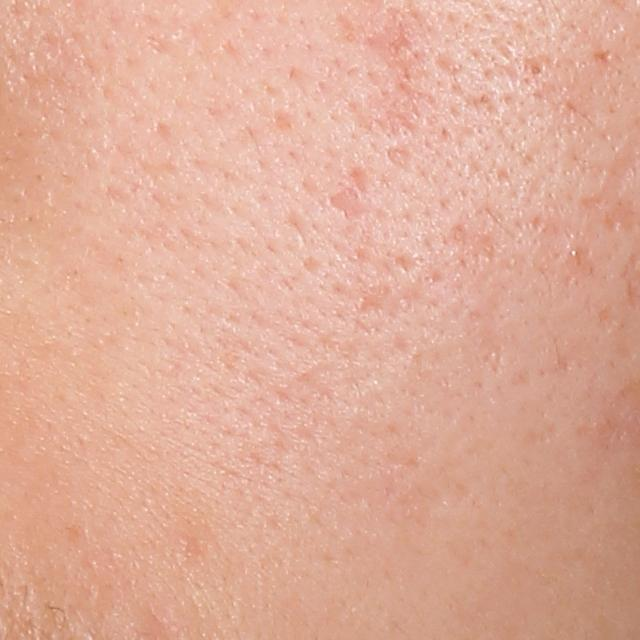atrophic_scar: (327, 186, 375, 223), (384, 144, 419, 176)
